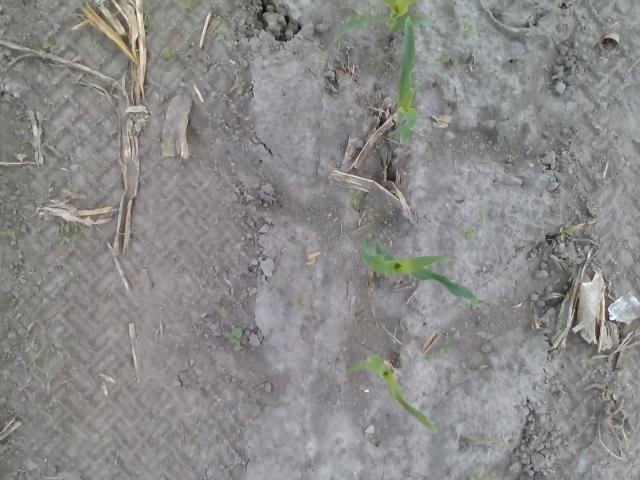Maize: (360, 229, 480, 301), (346, 354, 437, 434), (332, 0, 422, 43), (390, 16, 420, 144)
Weeds: (56, 222, 85, 246), (31, 350, 51, 374), (469, 467, 499, 480), (224, 327, 242, 346), (458, 227, 476, 244), (159, 46, 178, 62), (432, 50, 450, 66), (475, 205, 489, 225), (559, 222, 572, 242), (346, 187, 361, 204), (461, 19, 476, 36), (234, 73, 245, 94), (465, 291, 479, 307), (440, 340, 454, 356), (176, 0, 194, 11), (215, 26, 229, 40), (42, 41, 58, 52), (314, 52, 328, 64), (582, 358, 596, 368), (294, 295, 304, 308), (215, 304, 228, 314), (270, 275, 282, 285), (6, 227, 16, 239), (142, 14, 152, 26), (20, 138, 30, 149), (184, 444, 197, 450), (507, 154, 516, 162), (347, 42, 355, 50), (276, 57, 285, 64), (130, 126, 137, 135), (422, 354, 432, 360), (434, 182, 442, 189), (424, 146, 430, 154), (499, 359, 505, 365)
